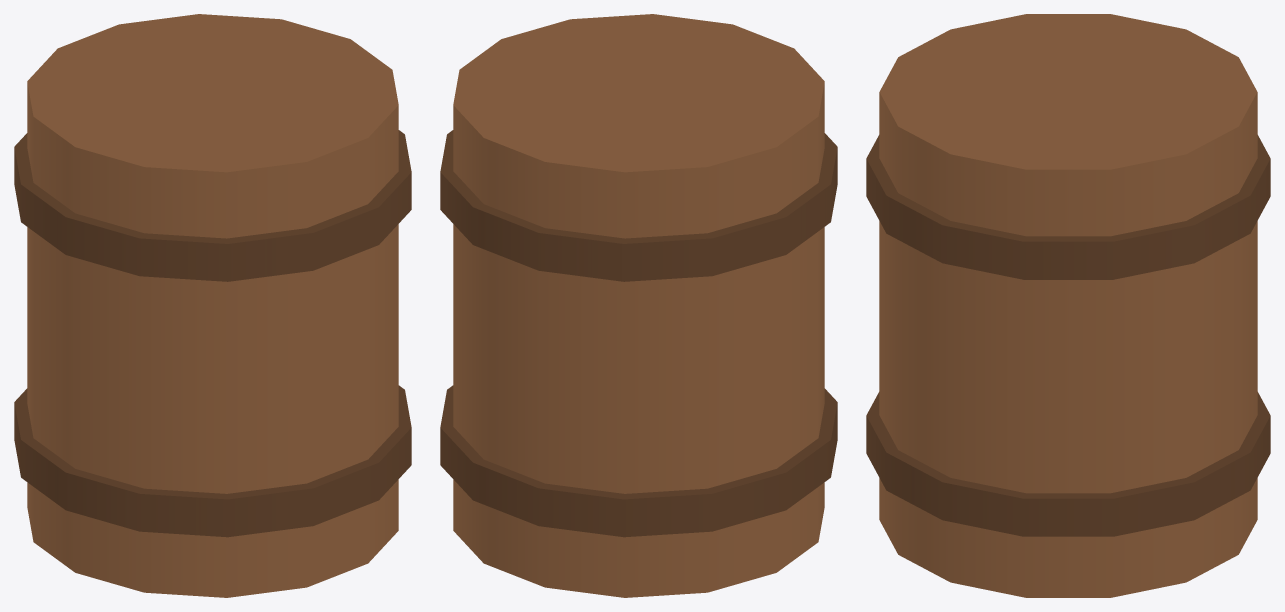
The model's file is barrel.glb.
3 renders of one model, left to right at view 1: azimuth 30°, elevation 25°; view 2: azimuth 150°, elevation 25°; view 3: azimuth 270°, elevation 25°, orthographic.
Parts seen in each view (by area): view 1: barrel; view 2: barrel; view 3: barrel.
Part boxes in pixels (x1,y1,x2,y2): barrel: (14, 14, 411, 597); barrel: (440, 14, 837, 597); barrel: (866, 14, 1270, 597).
Size of the model in its own units: 1.13 by 1.35 by 1.15.
